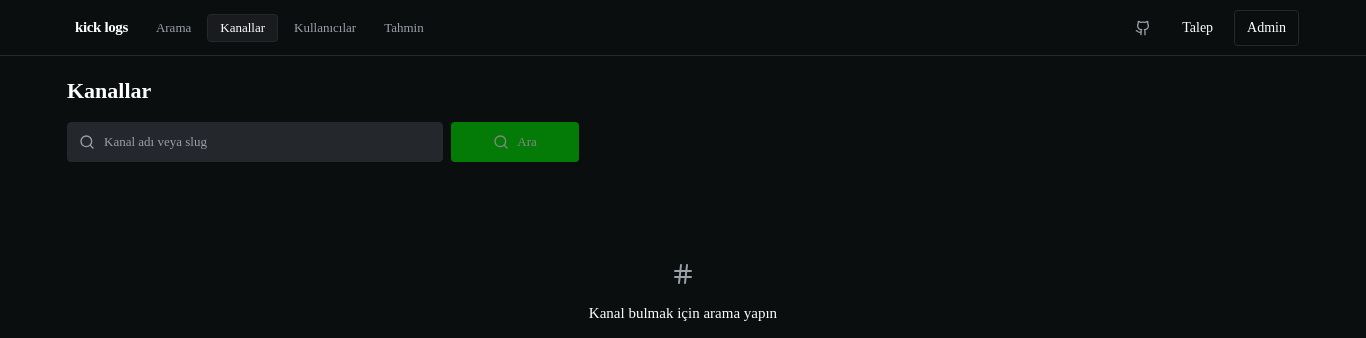
channels directory interaction › ignores stale append resolve after a replacement search
Type "alpha" into the search field at (255, 142), box [67, 122, 443, 162]
Then press Enter
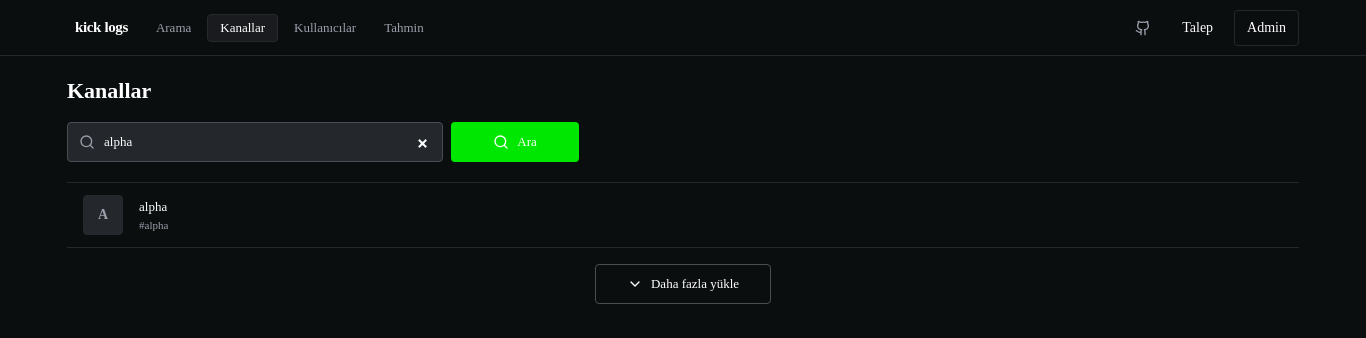
Click the button "Daha fazla yükle" at (683, 284), box [595, 264, 771, 304]
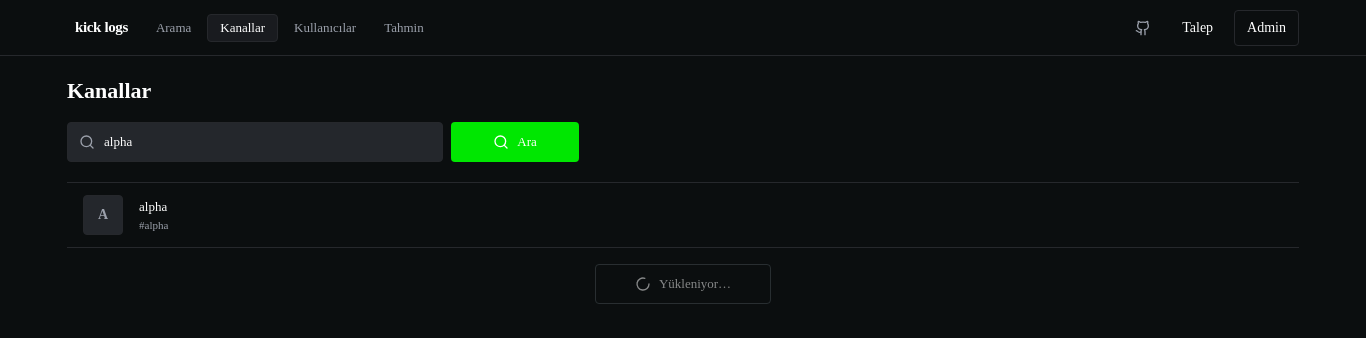
Replace the text in the search field with "beta" at (255, 142), box [67, 122, 443, 162]
Then press Enter
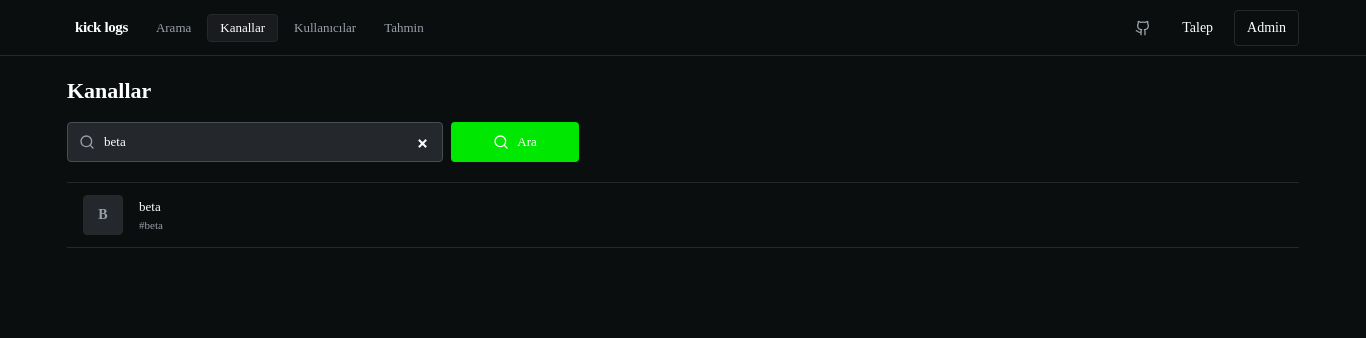
Expected: the link "B beta #beta" is shown, [83, 195, 163, 235]
Expected: the link "alpha" is gone
